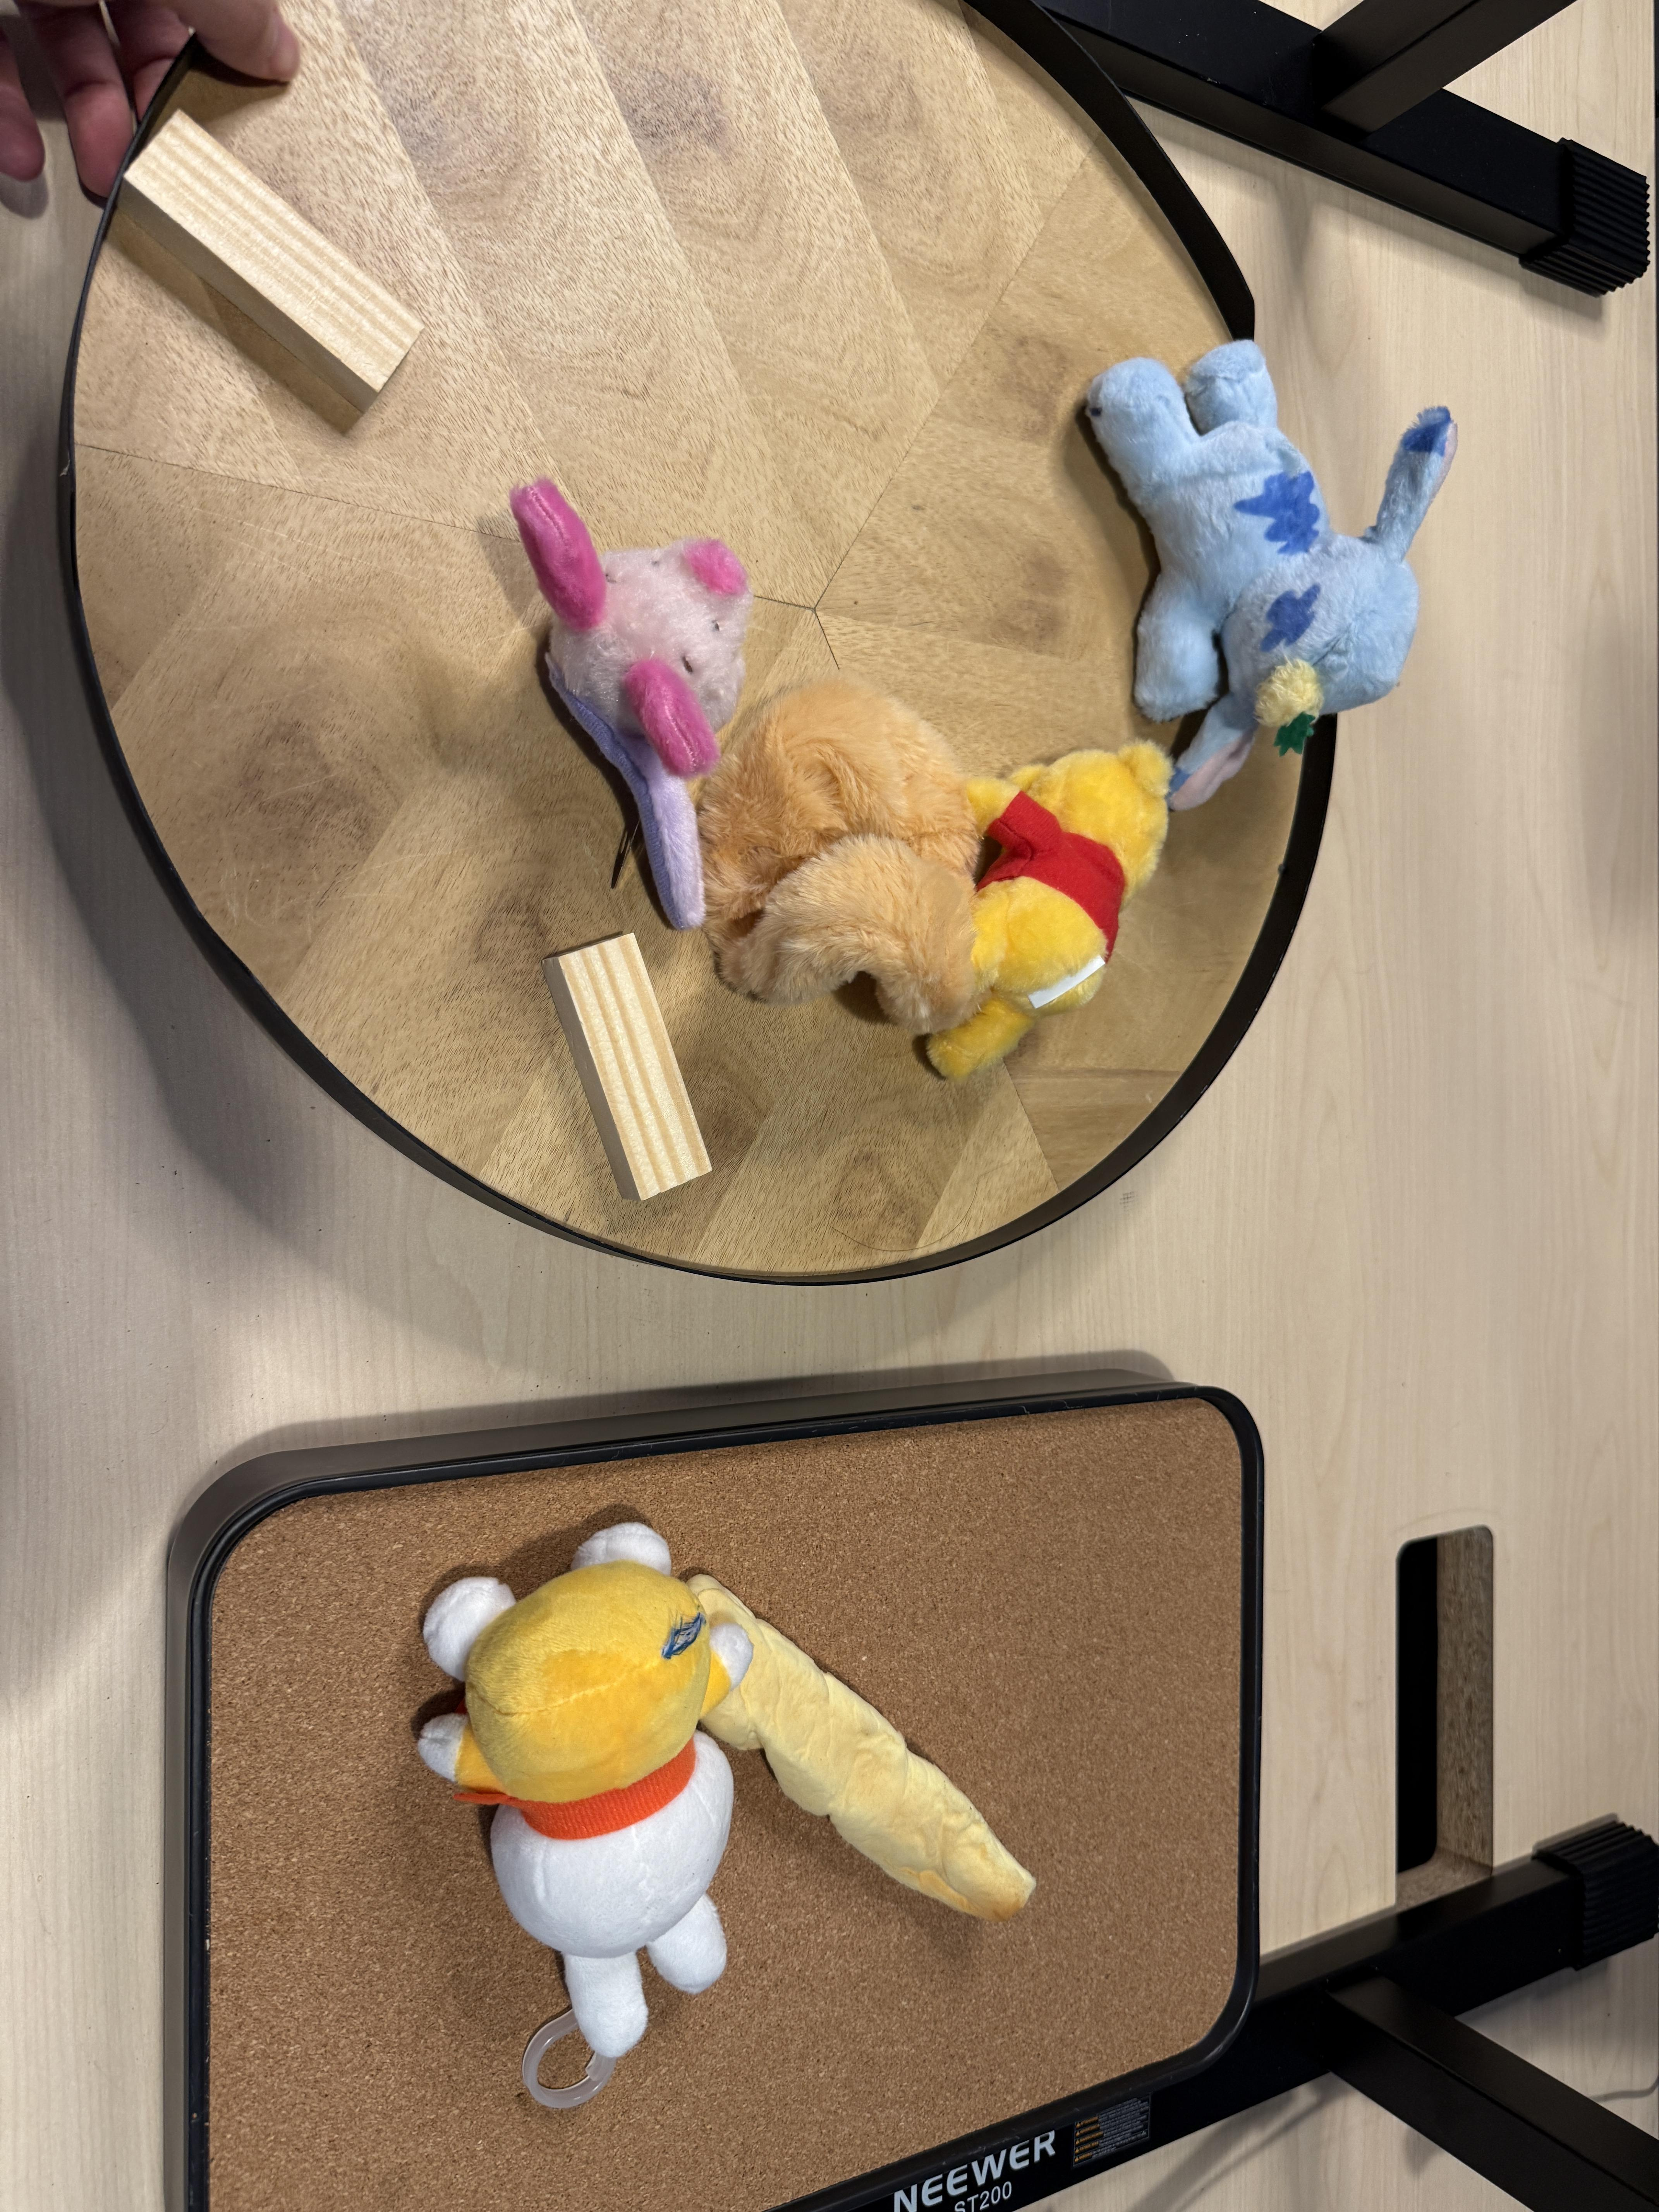block: (120, 111, 423, 404), (526, 925, 730, 1204)
bread: (681, 1568, 1044, 1935)
doll: (422, 1519, 751, 2111), (1093, 333, 1462, 817), (744, 686, 1187, 1083), (511, 475, 749, 927)
